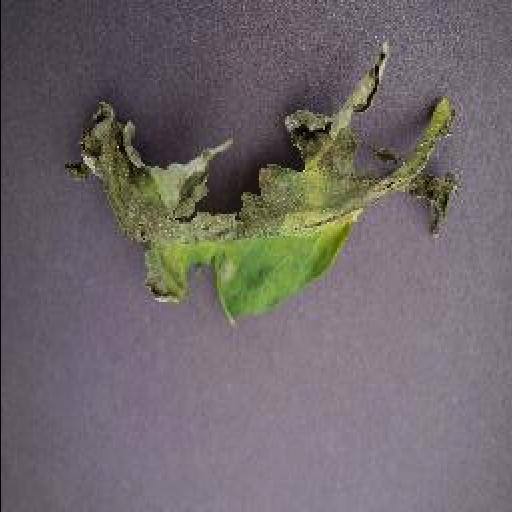disease_tomato: (62, 46, 456, 324)
